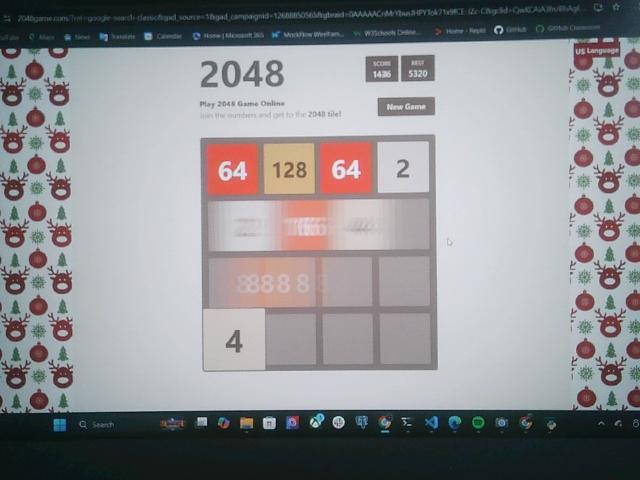board: (201, 137, 435, 372)
tile: (204, 309, 267, 370), (264, 144, 316, 195), (378, 143, 430, 193), (207, 143, 257, 194), (321, 143, 371, 194)
